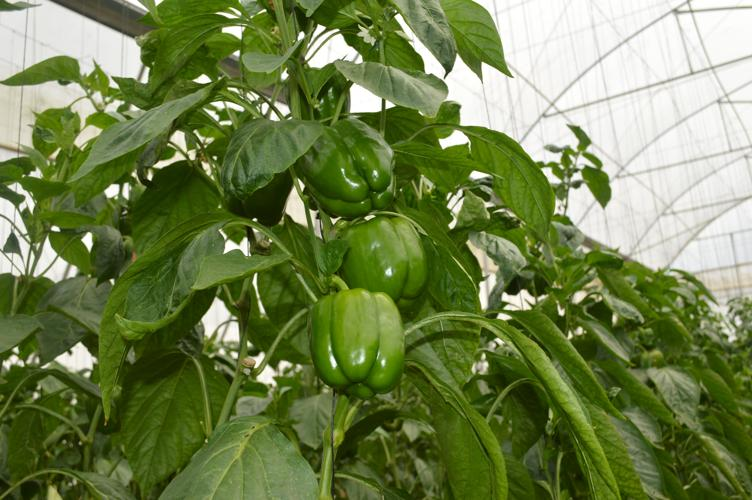BellPepper: (280, 117, 418, 217), (300, 288, 410, 409), (321, 217, 435, 308)
